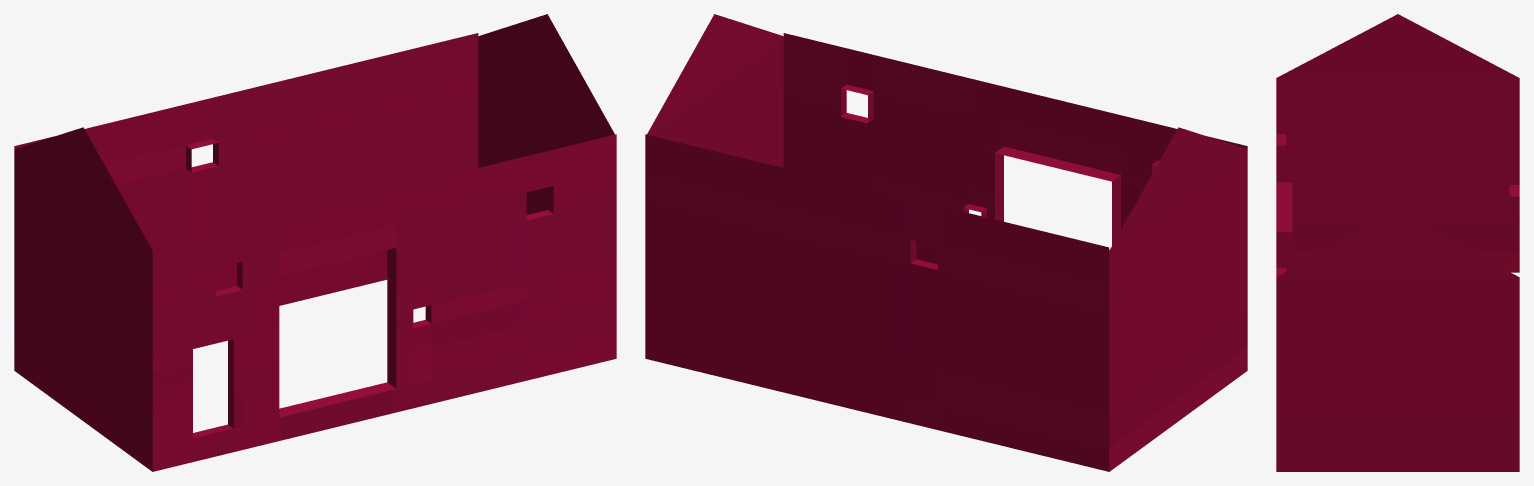
The model's file is SM_Bld_140_Masonry.glb.
3 views of the same model, side by side, from view 1: azimuth 30°, elevation 25°; view 2: azimuth 150°, elevation 25°; view 3: azimuth 270°, elevation 25° (orthographic). The views are drawn at different scales.
Visible parts, largest first — view 1: SM_Bld_140_Masonry; view 2: SM_Bld_140_Masonry; view 3: SM_Bld_140_Masonry.
Part boxes in pixels (left/top/right/bottom): SM_Bld_140_Masonry: left=14, top=14, right=616, bottom=471; SM_Bld_140_Masonry: left=645, top=14, right=1247, bottom=471; SM_Bld_140_Masonry: left=1276, top=14, right=1519, bottom=471.
Bounding box in the file's own units: 10.32 × 6.25 × 5.33.
